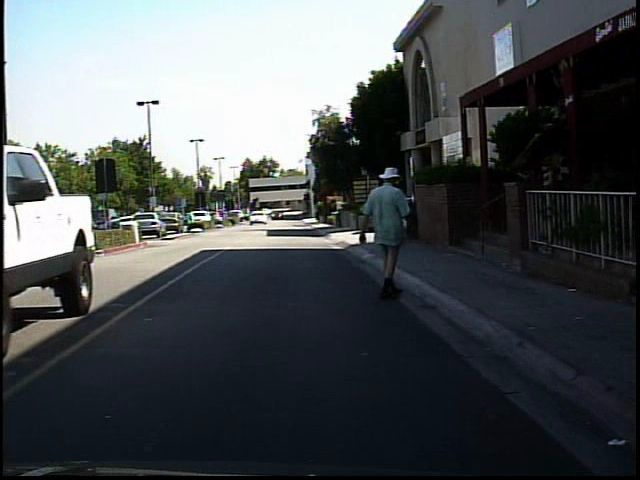person: (358, 158, 418, 304), (45, 197, 74, 267), (183, 204, 199, 229)
